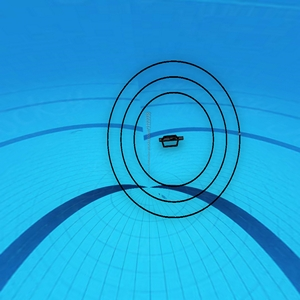submarine: (158, 132, 187, 151)
